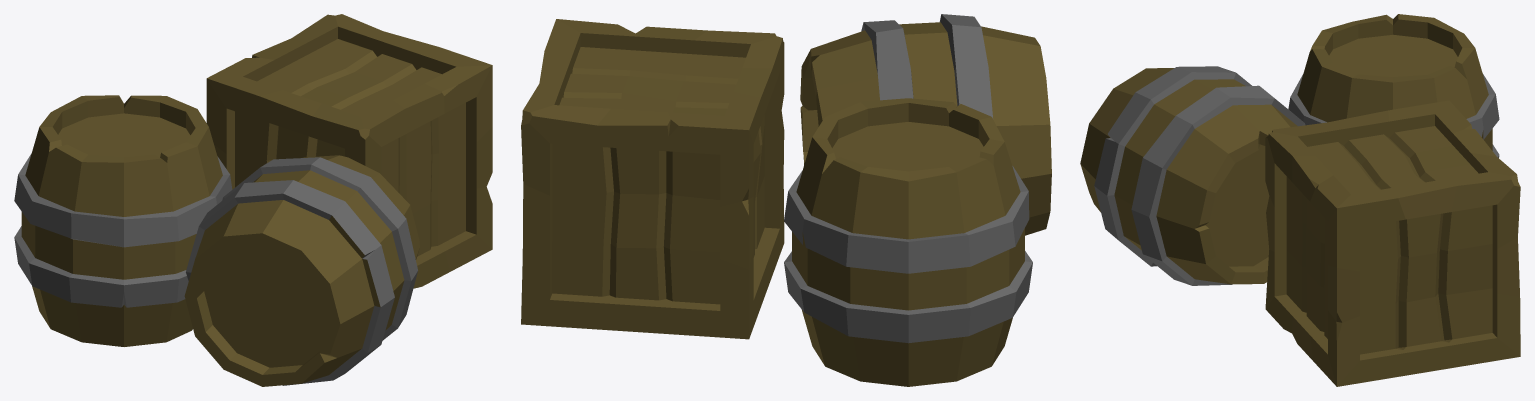
Rendered from barrel_comp_1.fbx.
The picture shows the model from 3 angles, left to right: view 1: azimuth 30°, elevation 25°; view 2: azimuth 150°, elevation 25°; view 3: azimuth 270°, elevation 25°; orthographic projection. The views are drawn at different scales.
Visible parts, largest first — view 1: barrel_comp_1; view 2: barrel_comp_1; view 3: barrel_comp_1.
Part boxes in pixels (<box>): barrel_comp_1: <box>14,14,492,386</box>; barrel_comp_1: <box>521,14,1051,386</box>; barrel_comp_1: <box>1080,14,1520,386</box>.
Size of the model in its own units: 190 by 83.24 by 172.
